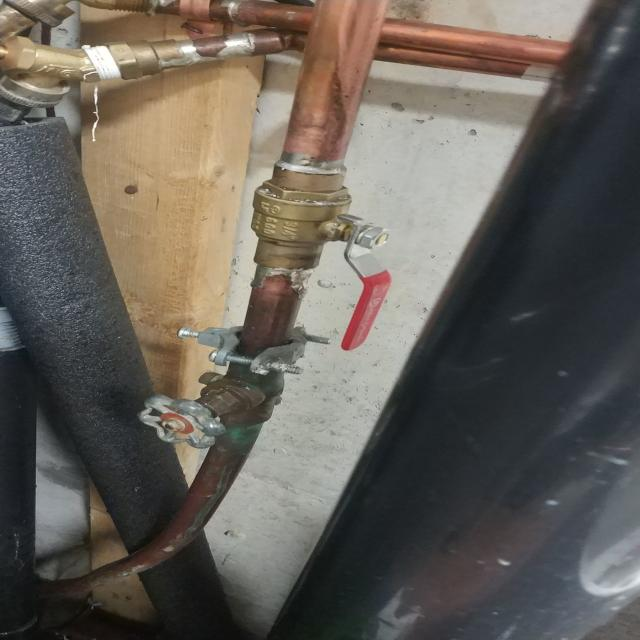Lever Handle Valve Threaded: (248, 160, 394, 351)
